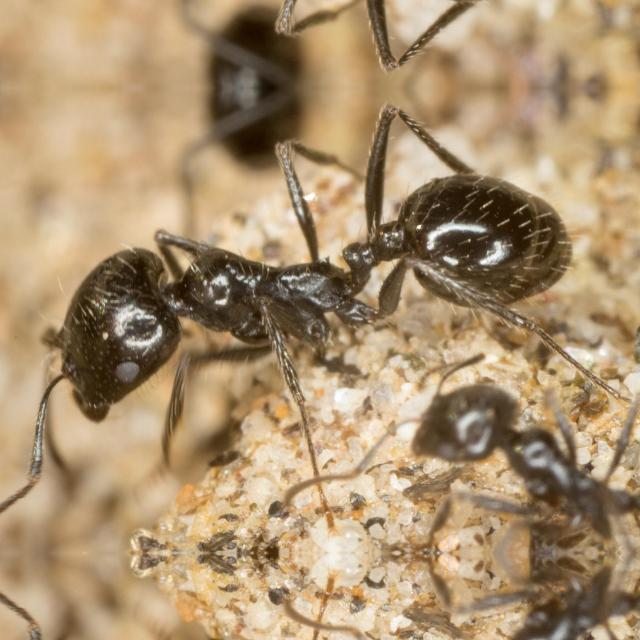Messor: (29, 135, 606, 441), (390, 344, 640, 552), (390, 552, 639, 640)
